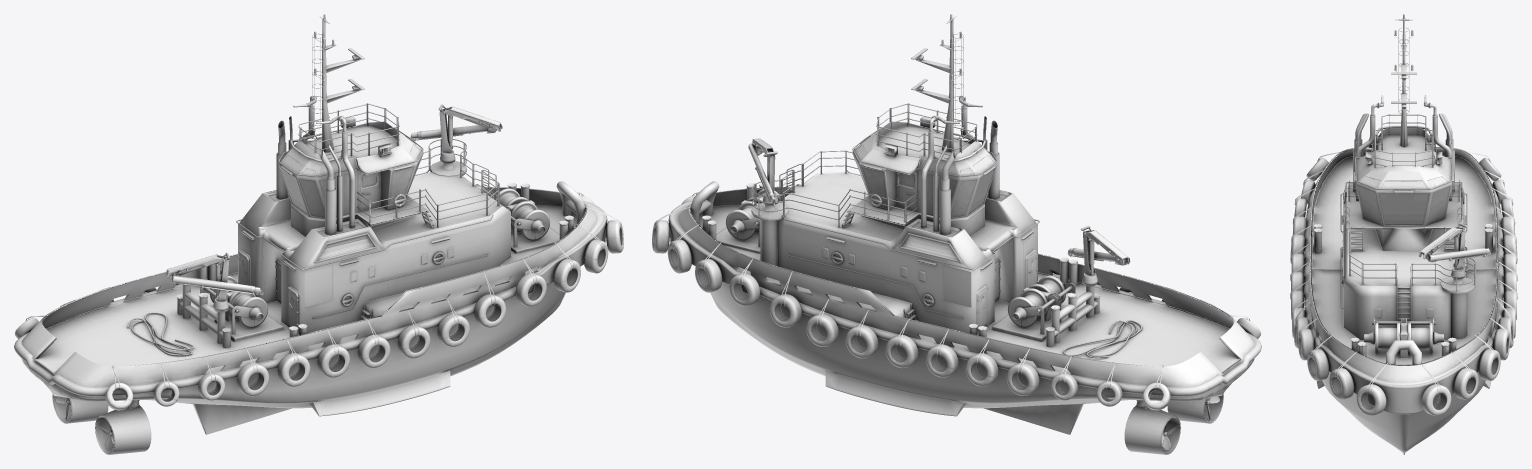
The model's file is tugboat-transformed.glb.
3 renders of one model, left to right at view 1: azimuth 30°, elevation 25°; view 2: azimuth 150°, elevation 25°; view 3: azimuth 270°, elevation 25°, orthographic. The views are drawn at different scales.
Visible parts, largest first — view 1: Harbor_Tugboat_geo; view 2: Harbor_Tugboat_geo; view 3: Harbor_Tugboat_geo.
Part boxes in pixels (bbox=[...]): Harbor_Tugboat_geo: bbox=[14, 14, 623, 454]; Harbor_Tugboat_geo: bbox=[652, 14, 1261, 454]; Harbor_Tugboat_geo: bbox=[1290, 14, 1517, 454].
Size of what is drawn, in the model's own units: 0.2 by 0.131 by 0.0733.
1 material, 1 textured.
